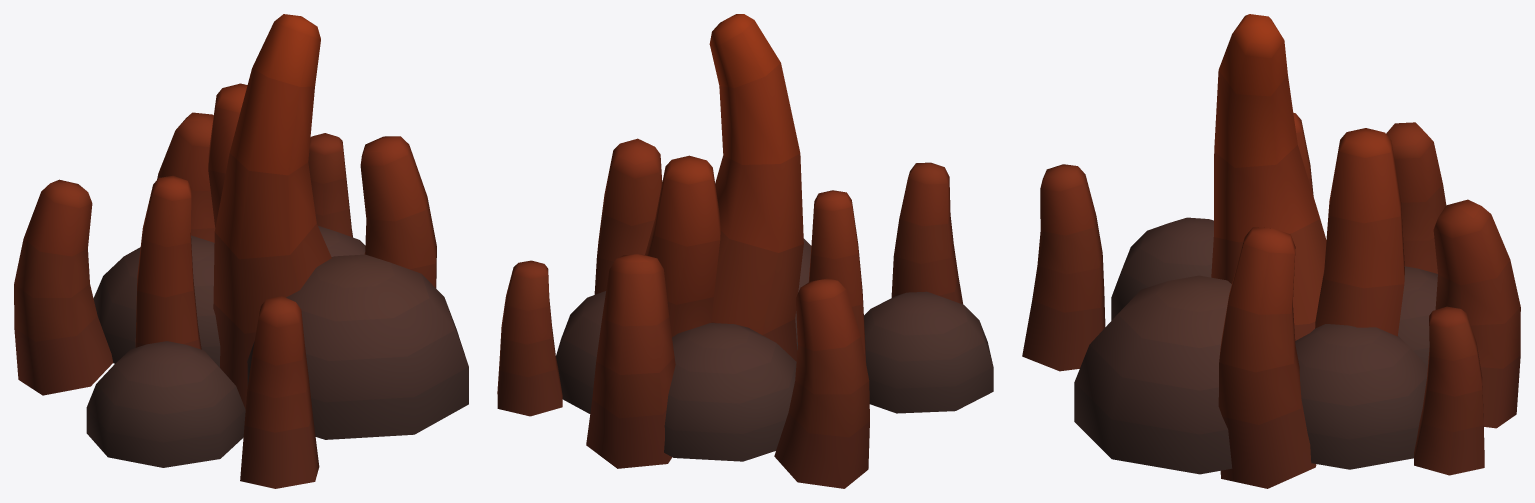
The model's file is grass_004.glb.
The picture shows the model from 3 angles, left to right: view 1: azimuth 30°, elevation 25°; view 2: azimuth 150°, elevation 25°; view 3: azimuth 270°, elevation 25°; orthographic projection. The views are drawn at different scales.
Visible parts, largest first — view 1: Grass_004; view 2: Grass_004; view 3: Grass_004.
Boxes of the visible parts, x1=… form: Grass_004: x1=14, y1=14, x2=468, y2=488; Grass_004: x1=497, y1=14, x2=993, y2=488; Grass_004: x1=1022, y1=14, x2=1520, y2=488.
Size of the model in its own units: 0.7382 by 0.7041 by 0.7924.
